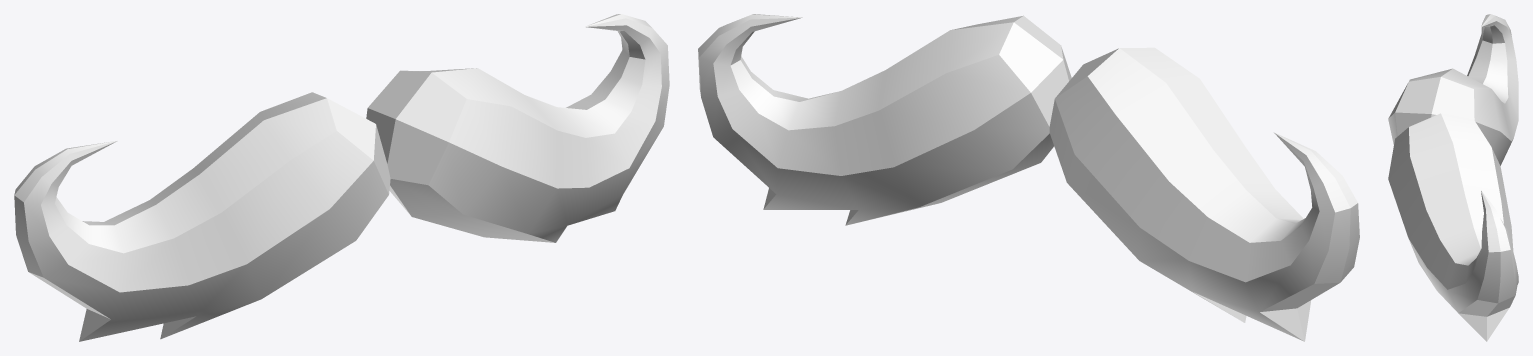
The model's file is Capsule_Mouth_Mustache_01.fbx.
The picture shows the model from 3 angles, left to right: view 1: azimuth 30°, elevation 25°; view 2: azimuth 150°, elevation 25°; view 3: azimuth 270°, elevation 25°; orthographic projection. The views are drawn at different scales.
Visible parts, largest first — view 1: Capsule_Mouth_Mustache_01; view 2: Capsule_Mouth_Mustache_01; view 3: Capsule_Mouth_Mustache_01.
Part boxes in pixels (x1,y1,x2,y2): Capsule_Mouth_Mustache_01: (14, 14, 669, 341); Capsule_Mouth_Mustache_01: (698, 14, 1359, 341); Capsule_Mouth_Mustache_01: (1388, 14, 1518, 341).
Bounding box in the file's own units: 101 × 33.03 × 24.72.
